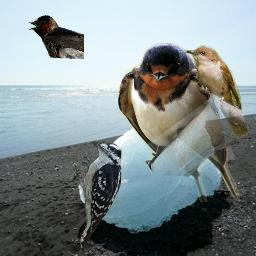Cuckoo: (184, 45, 248, 137)
Swallow: (118, 43, 240, 202), (28, 15, 84, 59)
Woodpecker: (69, 140, 128, 252)
